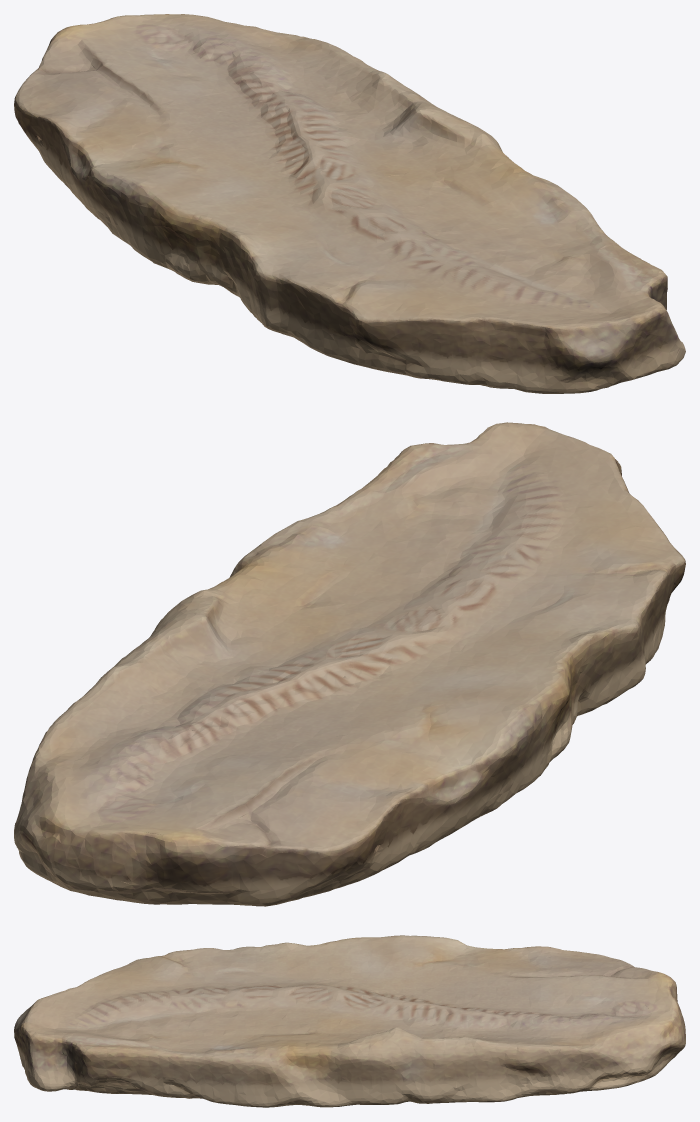
3 renders of one model, top to bottom at view 1: azimuth 30°, elevation 25°; view 2: azimuth 150°, elevation 25°; view 3: azimuth 270°, elevation 25°, orthographic. The views are drawn at different scales.
Visible parts, largest first — view 1: world; view 2: world; view 3: world.
Boxes of the visible parts, x1,y1,x2,y2 form: world: [14, 14, 685, 393]; world: [14, 422, 685, 906]; world: [14, 935, 685, 1107].
Size of the model in its own units: 0.4463 by 0.1003 by 0.9999.
Materials: 1 (1 with a texture image).
